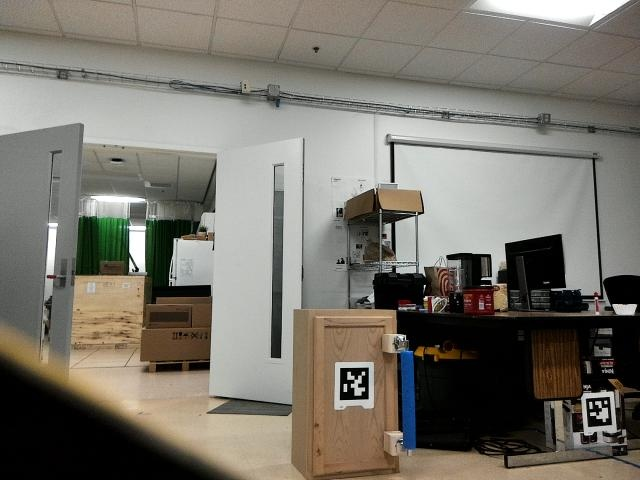noodle_handle: (393, 341, 418, 452)
